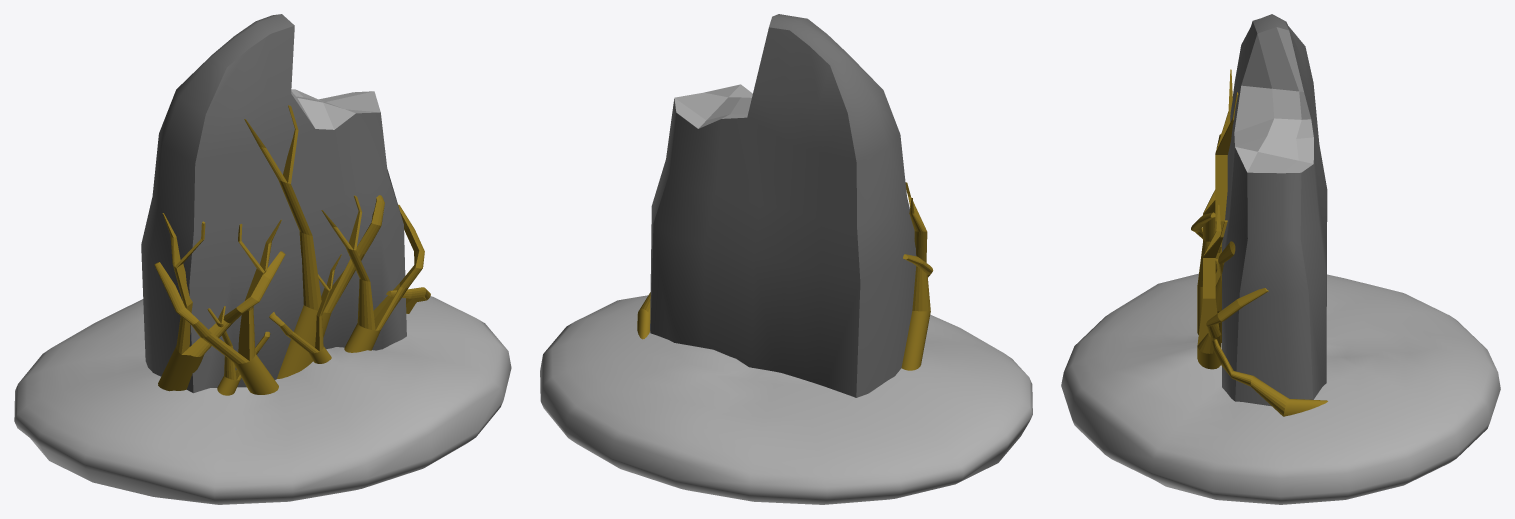
File: brokenTablet.fbx
3 views of the same model, side by side, from view 1: azimuth 30°, elevation 25°; view 2: azimuth 150°, elevation 25°; view 3: azimuth 270°, elevation 25° (orthographic). The views are drawn at different scales.
Parts seen in each view (by area): view 1: tablet; view 2: tablet; view 3: tablet.
Boxes of the visible parts, <box> form: tablet: <box>14,14,511,504</box>; tablet: <box>540,14,1032,504</box>; tablet: <box>1061,14,1500,504</box>.
Size of the model in its own units: 120 by 108 by 104.
